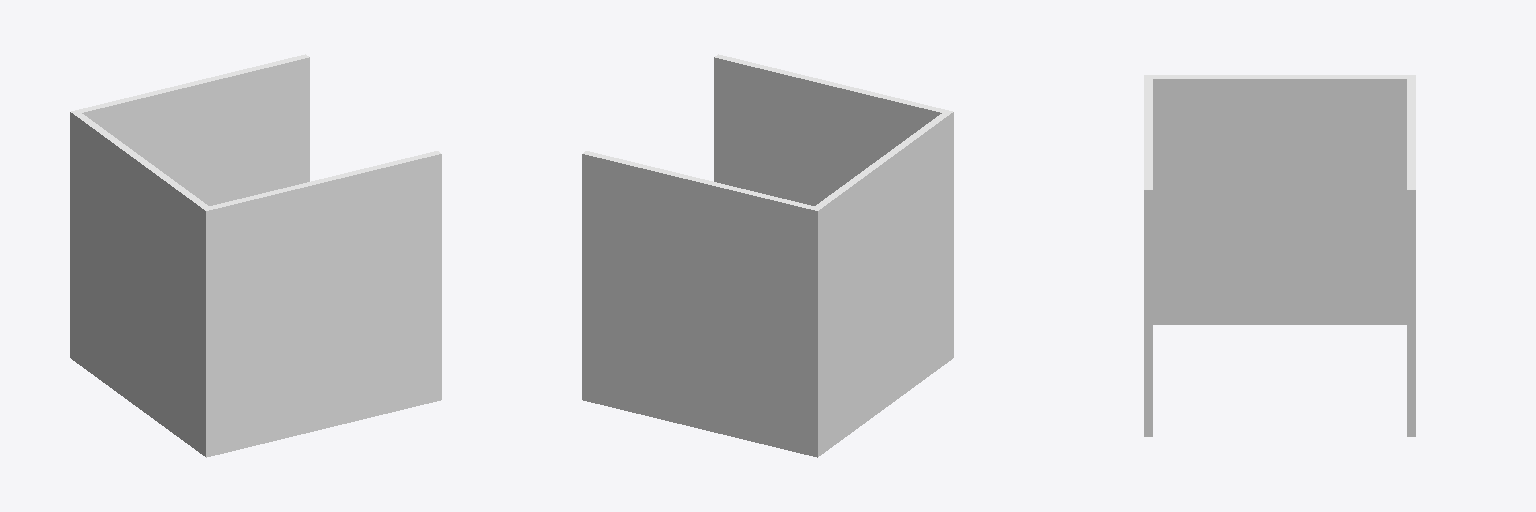
The picture shows the model from 3 angles: view 1: azimuth 30°, elevation 25°; view 2: azimuth 150°, elevation 25°; view 3: azimuth 270°, elevation 25°; orthographic projection.
Visible parts, largest first — view 1: test-53; view 2: test-53; view 3: test-53.
Part boxes in pixels (bbox=[...]): test-53: bbox=[70, 54, 441, 457]; test-53: bbox=[582, 54, 953, 457]; test-53: bbox=[1144, 75, 1415, 436].
Bounding box in the file's own units: 32 × 32 × 32.